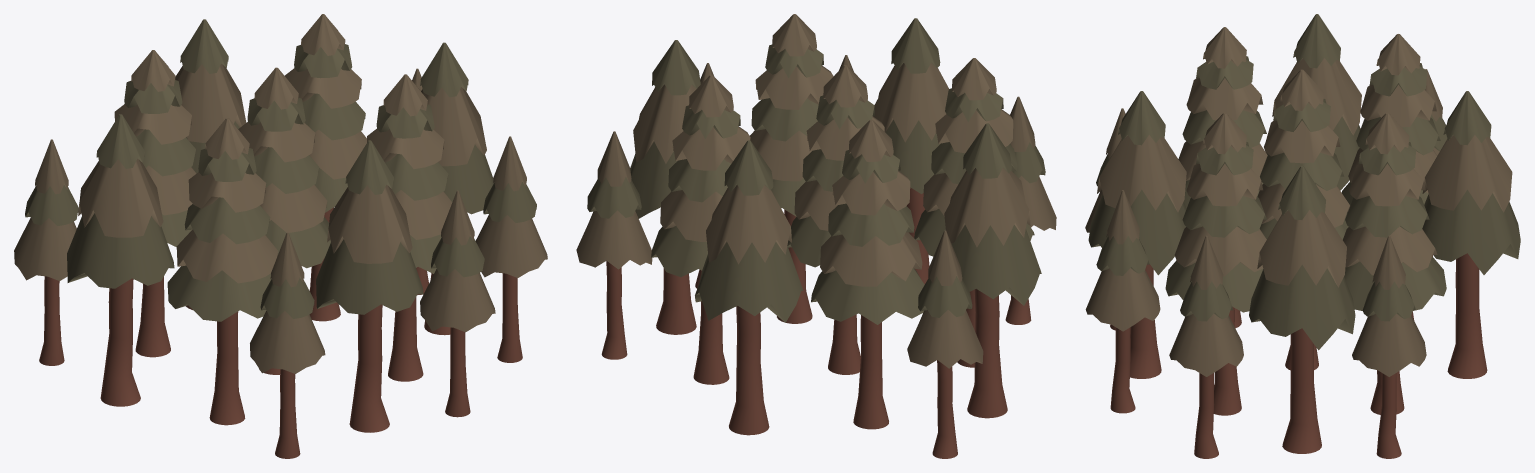
Rendered from Lowpoly_Tree_Cluster.fbx.
3 views of the same model, side by side, from view 1: azimuth 30°, elevation 25°; view 2: azimuth 150°, elevation 25°; view 3: azimuth 270°, elevation 25° (orthographic). The views are drawn at different scales.
Parts seen in each view (by area): view 1: Lowpoly_Tree_Cluster; view 2: Lowpoly_Tree_Cluster; view 3: Lowpoly_Tree_Cluster.
Part boxes in pixels (bbox=[...]): Lowpoly_Tree_Cluster: bbox=[14, 14, 547, 458]; Lowpoly_Tree_Cluster: bbox=[576, 14, 1056, 458]; Lowpoly_Tree_Cluster: bbox=[1085, 14, 1520, 458].
Bounding box in the file's own units: 39.85 × 27.6 × 36.96.
